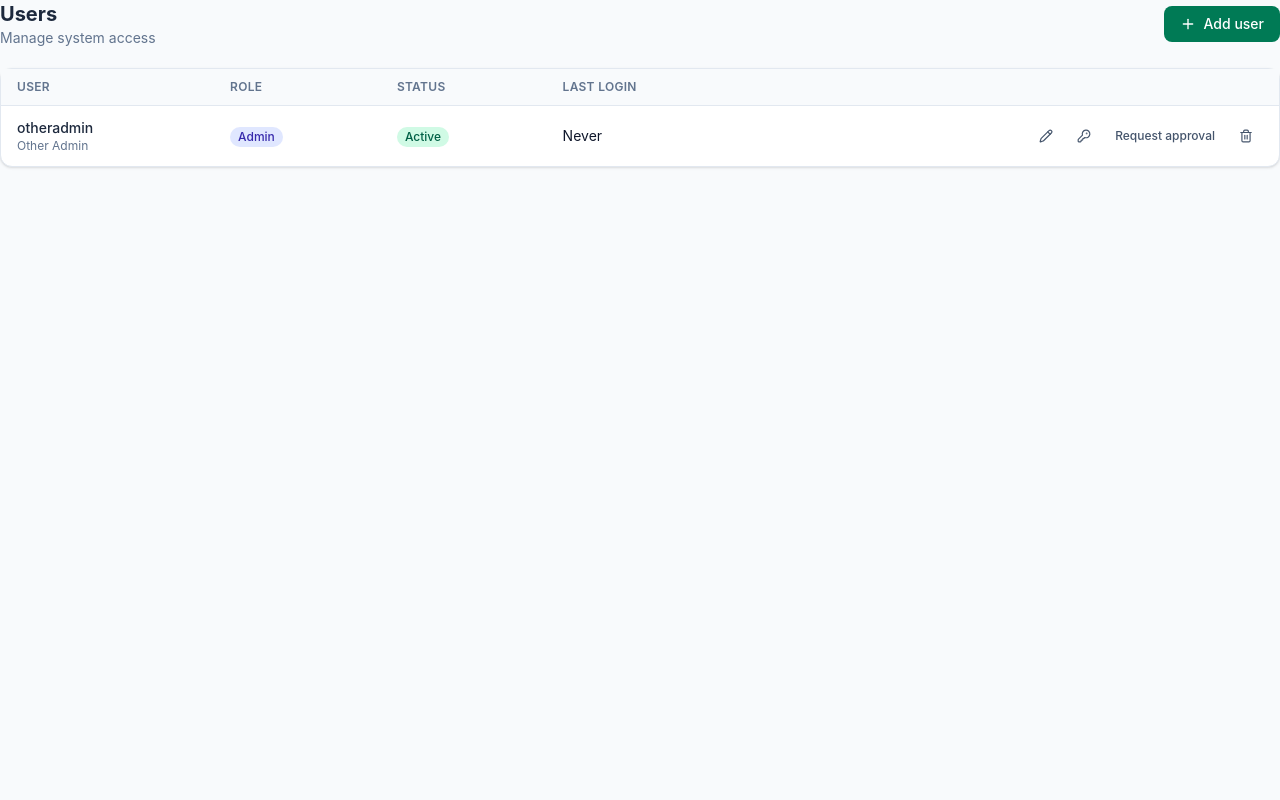
it: Users Add-user partner onboarding › partner viewers see Request approval labels instead of direct actions
Check: the button "Request approval" is shown, box [1105,122,1225,150]
Click the button "Add user" at coordinates (1222, 24), box [1164,6,1279,42]
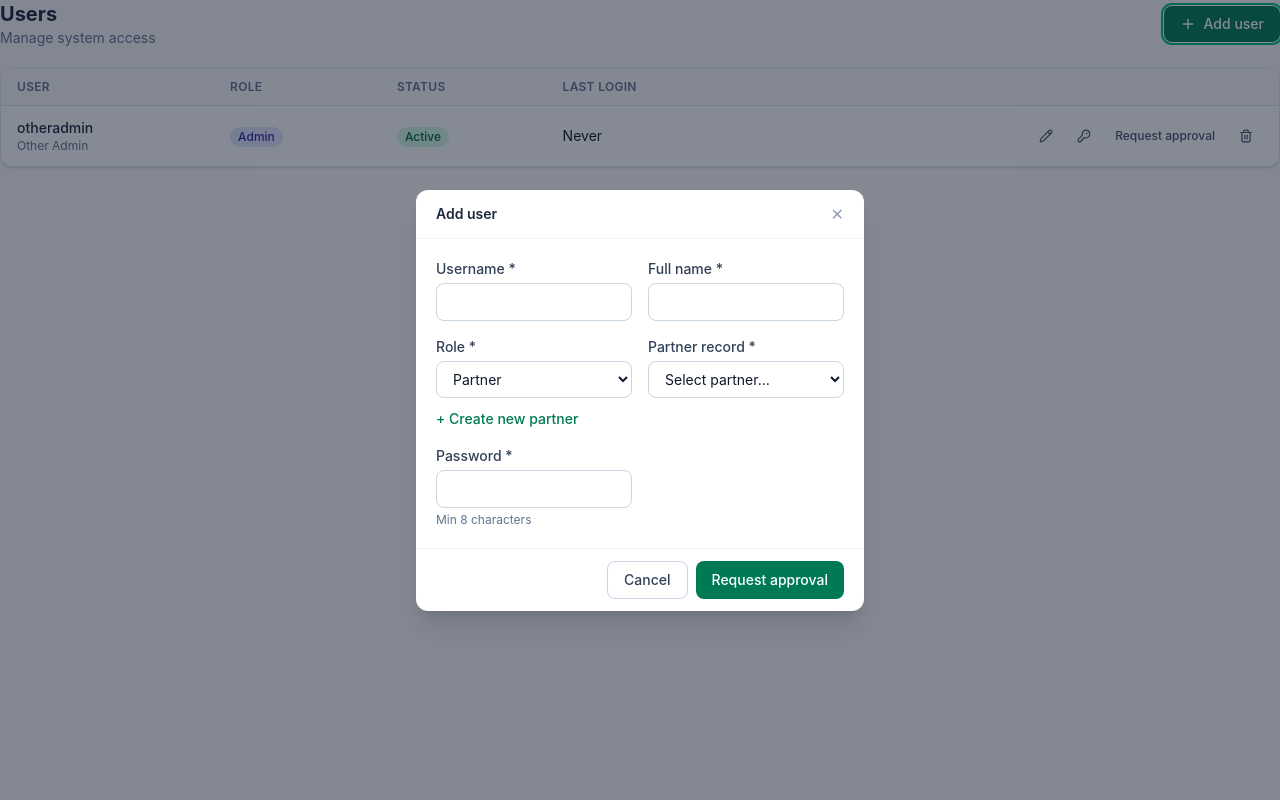
Check: the text "Username *" is shown, box [436,260,516,276]
Check: the button "Request approval" is shown, box [696,560,844,598]
